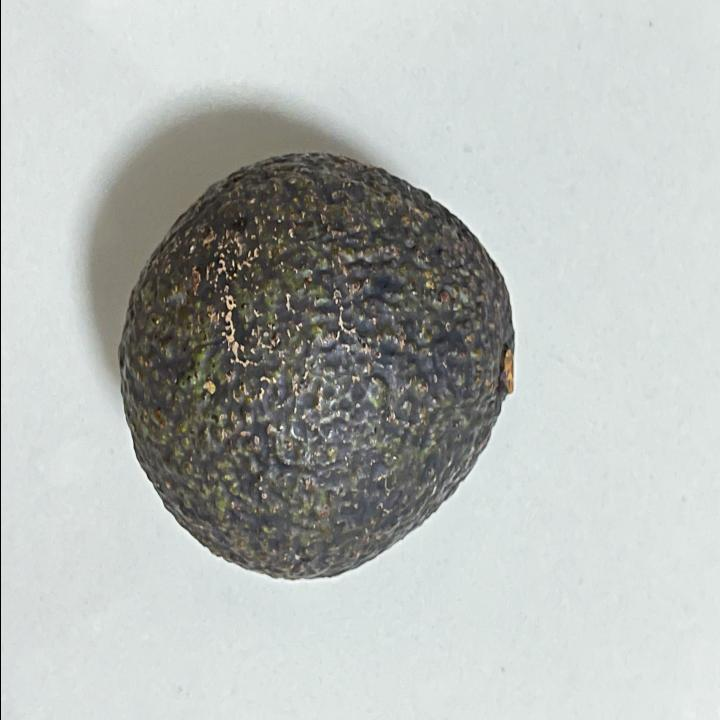Level2: (112, 145, 522, 590)
